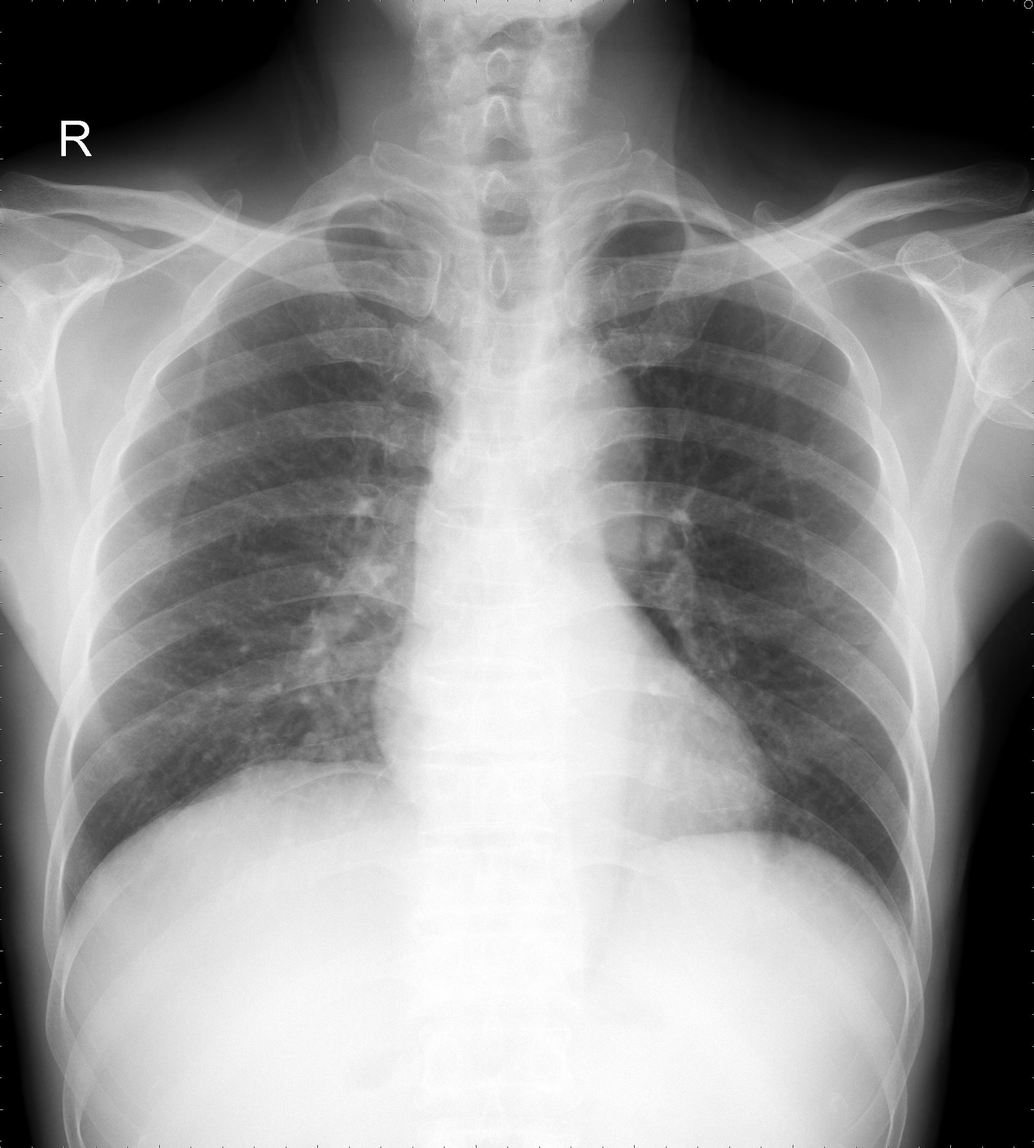Aortic enlargement: (525, 345, 644, 490)
